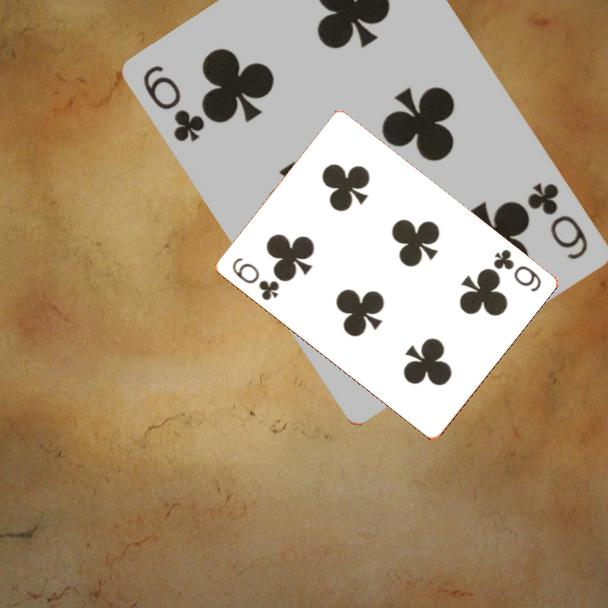c06: (140, 61, 209, 145), (524, 179, 592, 263), (228, 254, 282, 304), (489, 246, 544, 295)
